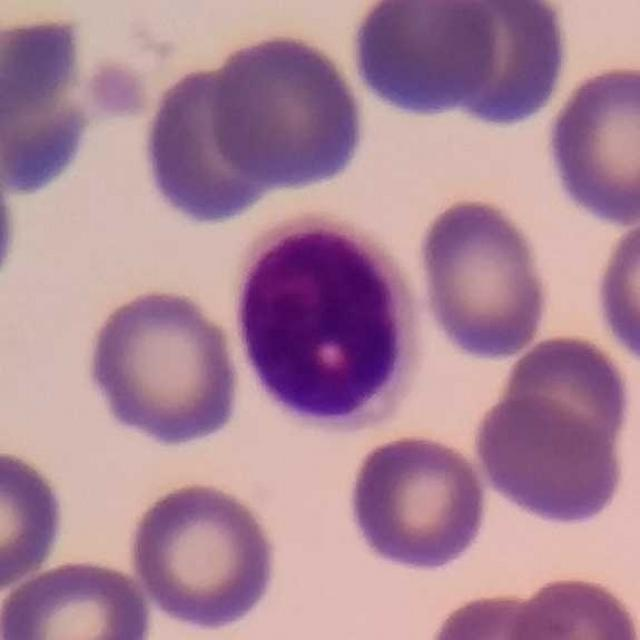Lymphocyte: (226, 210, 427, 440)
Platelets: (0, 135, 23, 314)
RBC: (202, 28, 370, 196), (81, 284, 245, 450), (136, 58, 290, 229), (126, 478, 282, 634), (413, 193, 553, 364), (343, 430, 492, 576), (471, 392, 629, 528), (346, 0, 503, 122), (494, 331, 636, 464), (429, 0, 573, 130), (0, 10, 100, 197), (541, 59, 640, 228), (0, 554, 156, 640), (0, 444, 70, 594), (502, 571, 640, 640), (590, 208, 640, 371), (419, 587, 567, 640), (83, 54, 157, 124)
